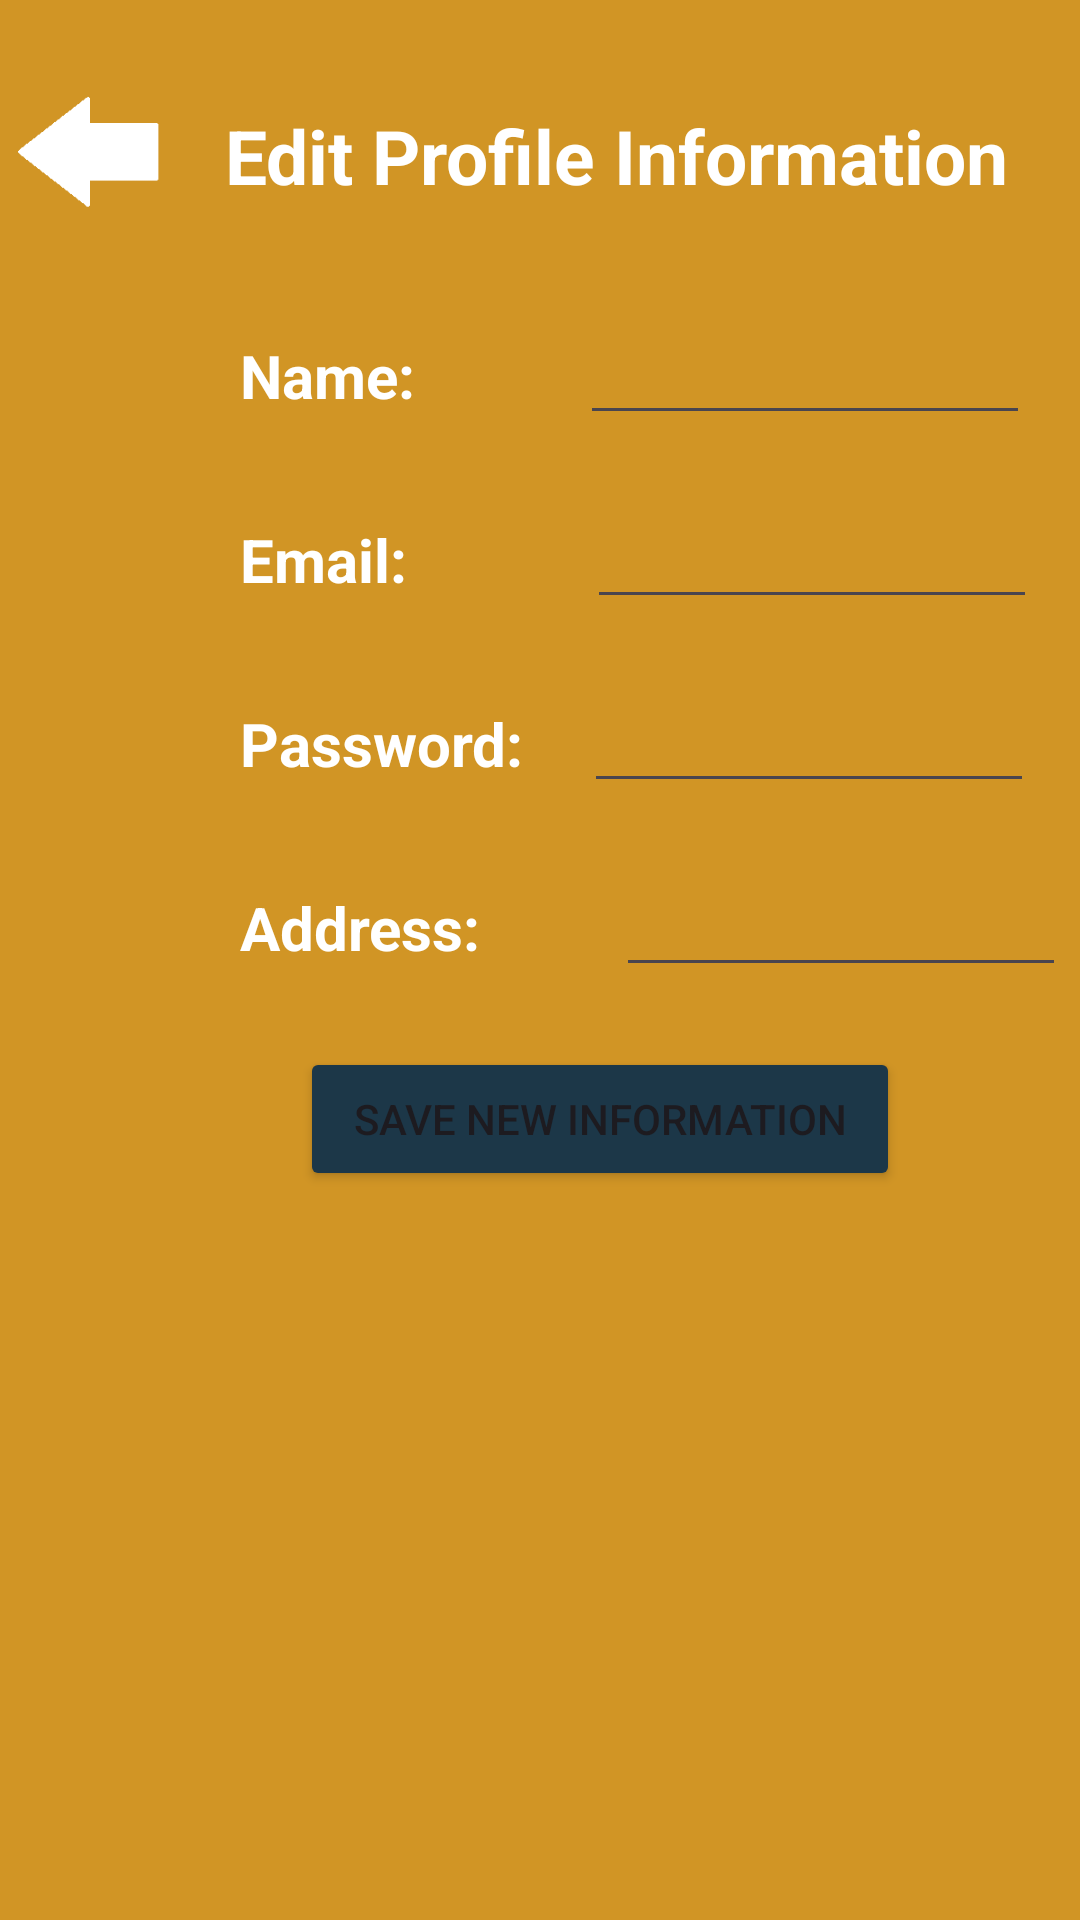

Icon click points for this 1080×1920 phone screenshot, format (x,y):
backarrow: (88,152)
